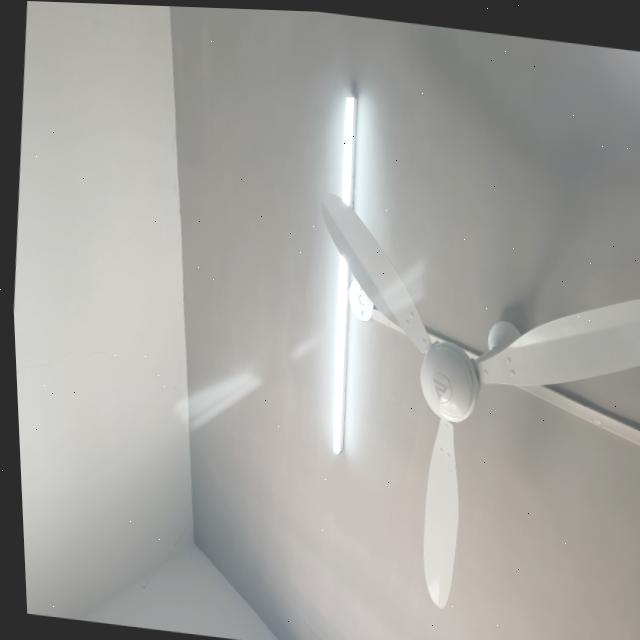light_on: (301, 80, 384, 461)
